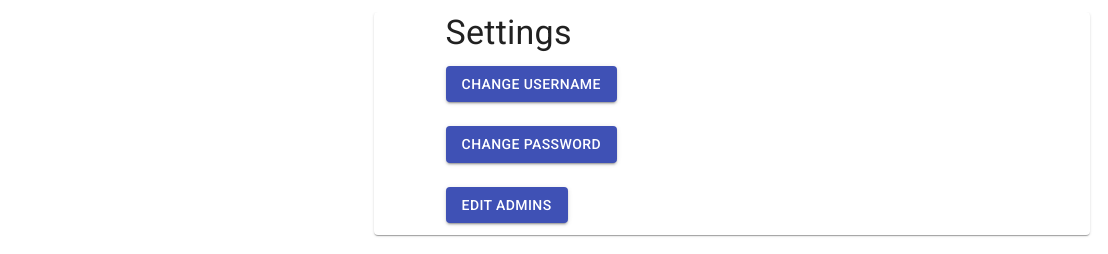
Settings.test › Goes to admin list when button is clicked on
Step 1. Click the button "Edit Admins" → {"x": 507, "y": 205}, box [446,187,568,223]
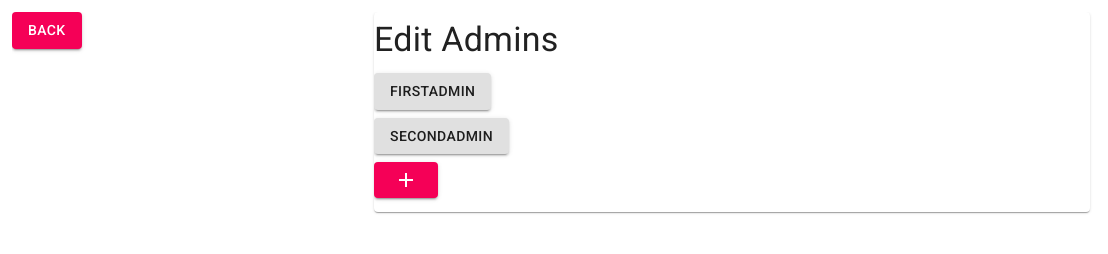
Expected: the text "FirstAdmin" is shown, [390,79,475,104]
